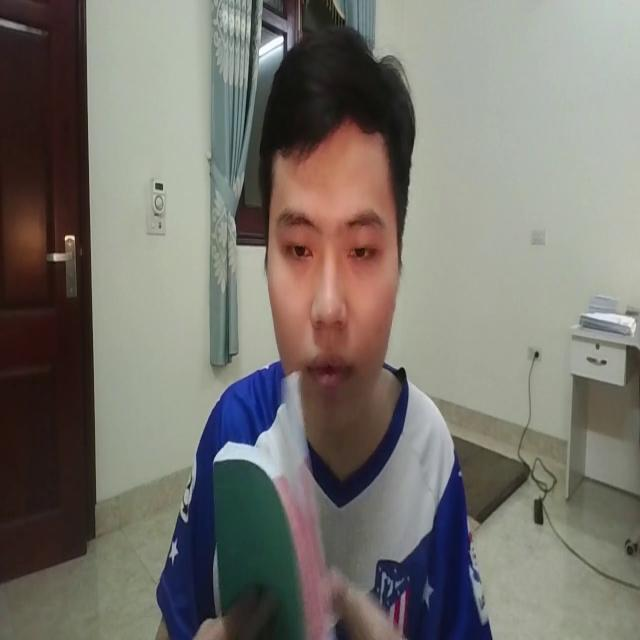book: (199, 368, 347, 640)
student: (133, 12, 524, 640)
